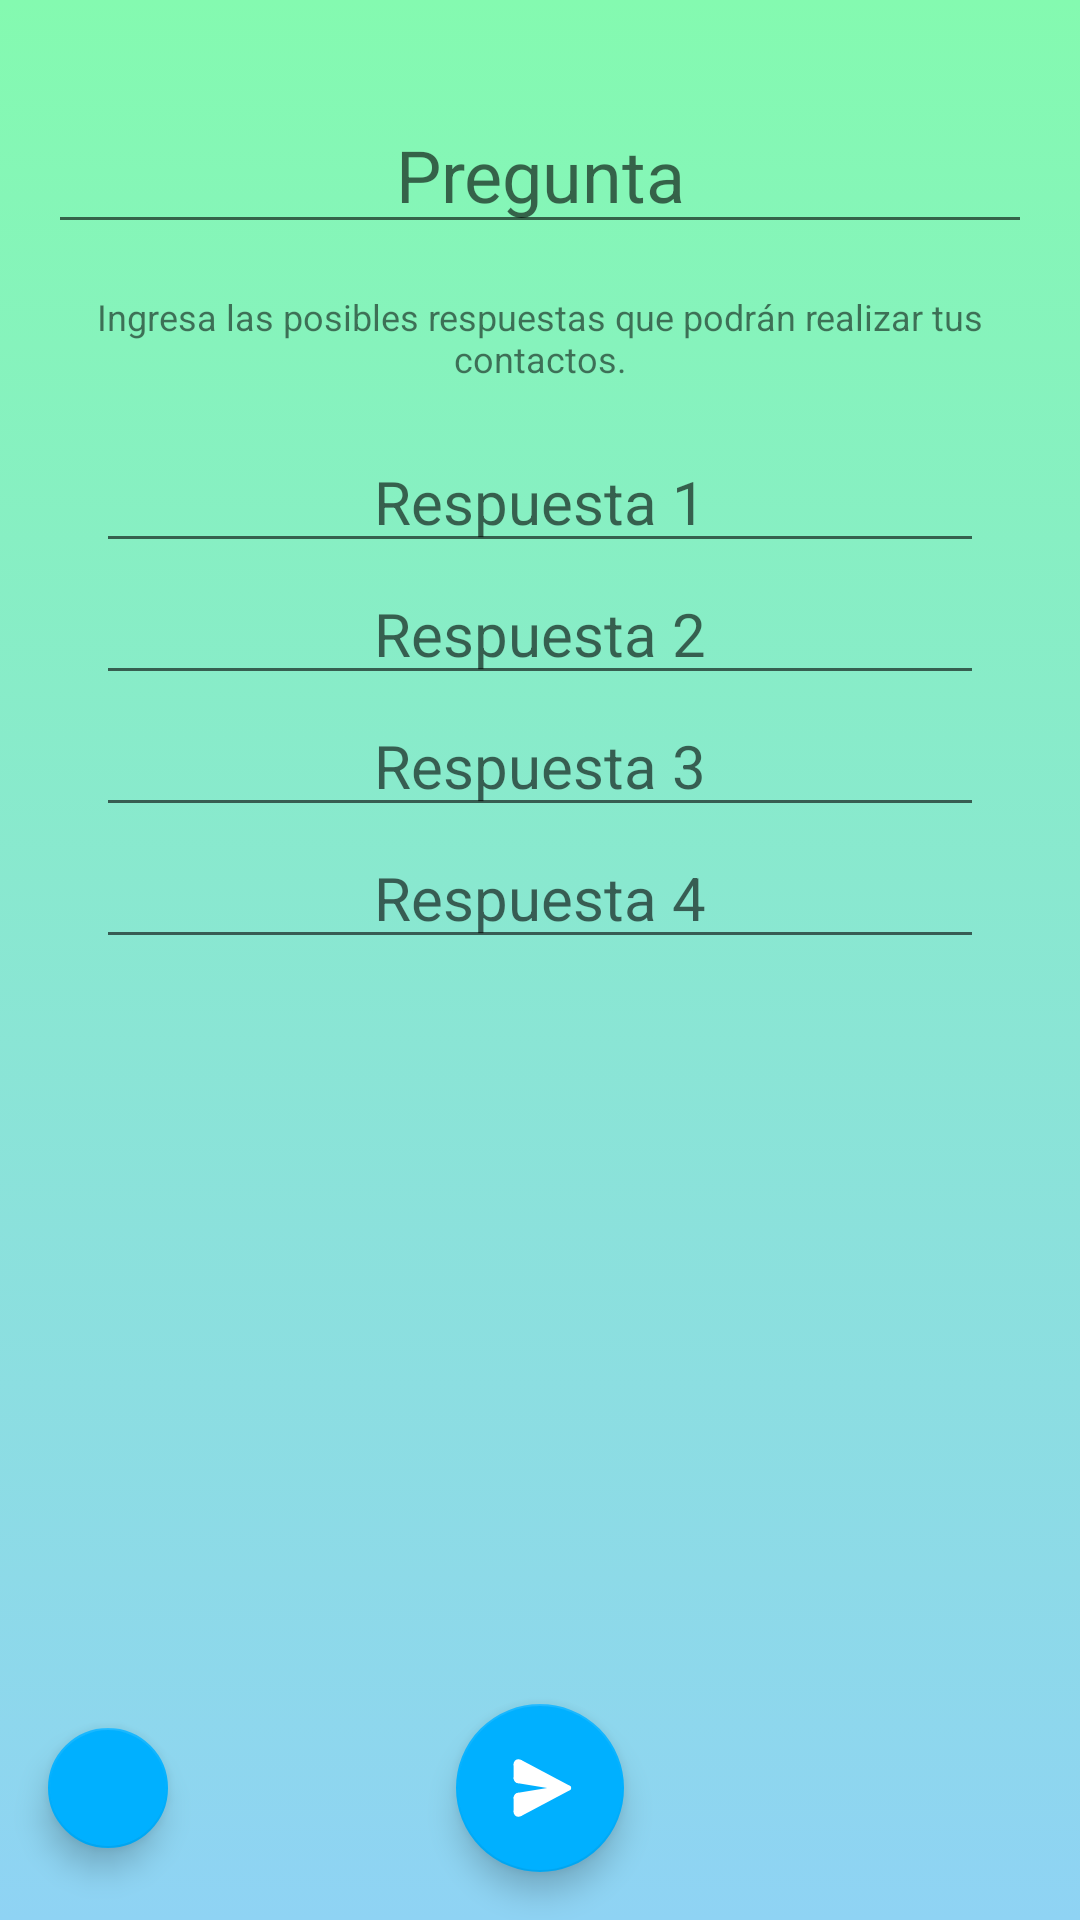

Where icons sit on this 1080px×1920px app screen, as (x1, y1, x2, y2):
paper plane: (456, 1704, 624, 1872)
